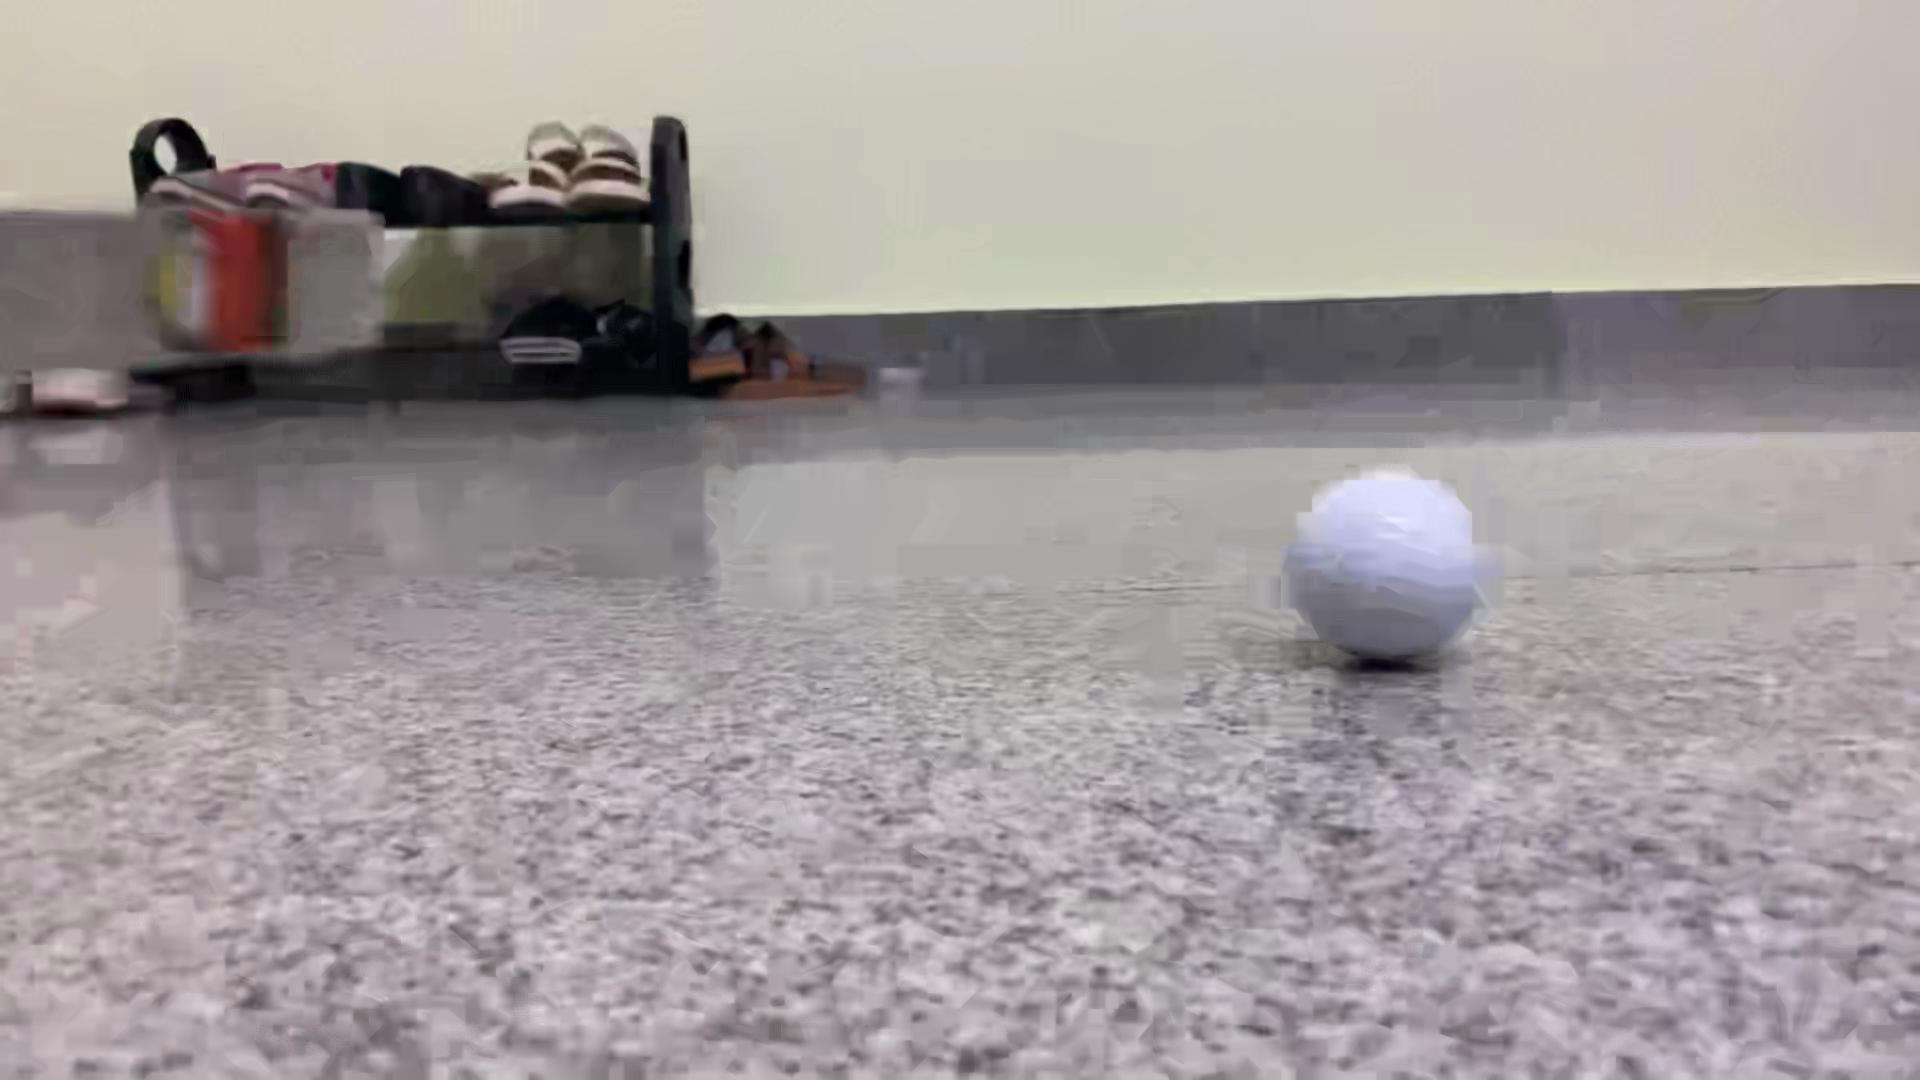golfball: (1282, 468, 1490, 661)
